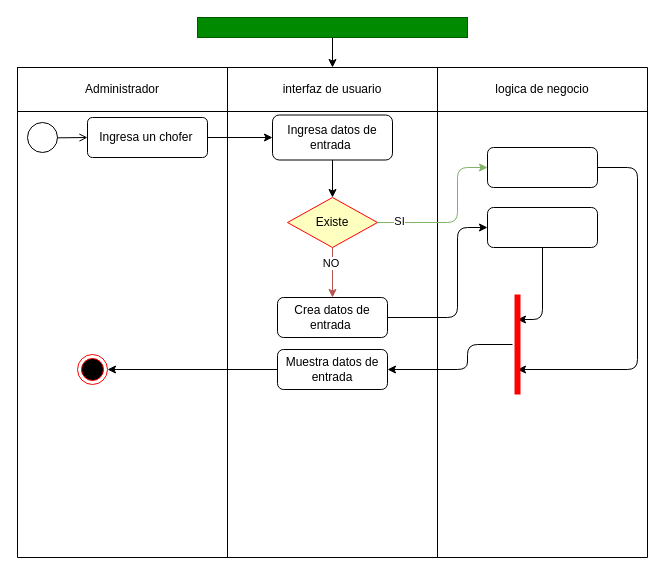
This 665x575 diagram has some shape labels left out. The centre of each missing label's shape, as x and y in pixels:
"Almacena datos de entrada" belongs at point 542,227.
"Consulta datos de entrada" belongs at point 542,167.
"DAA.14.1.MUESTRA y REGISTRA CHOFERES" belongs at point 332,27.
